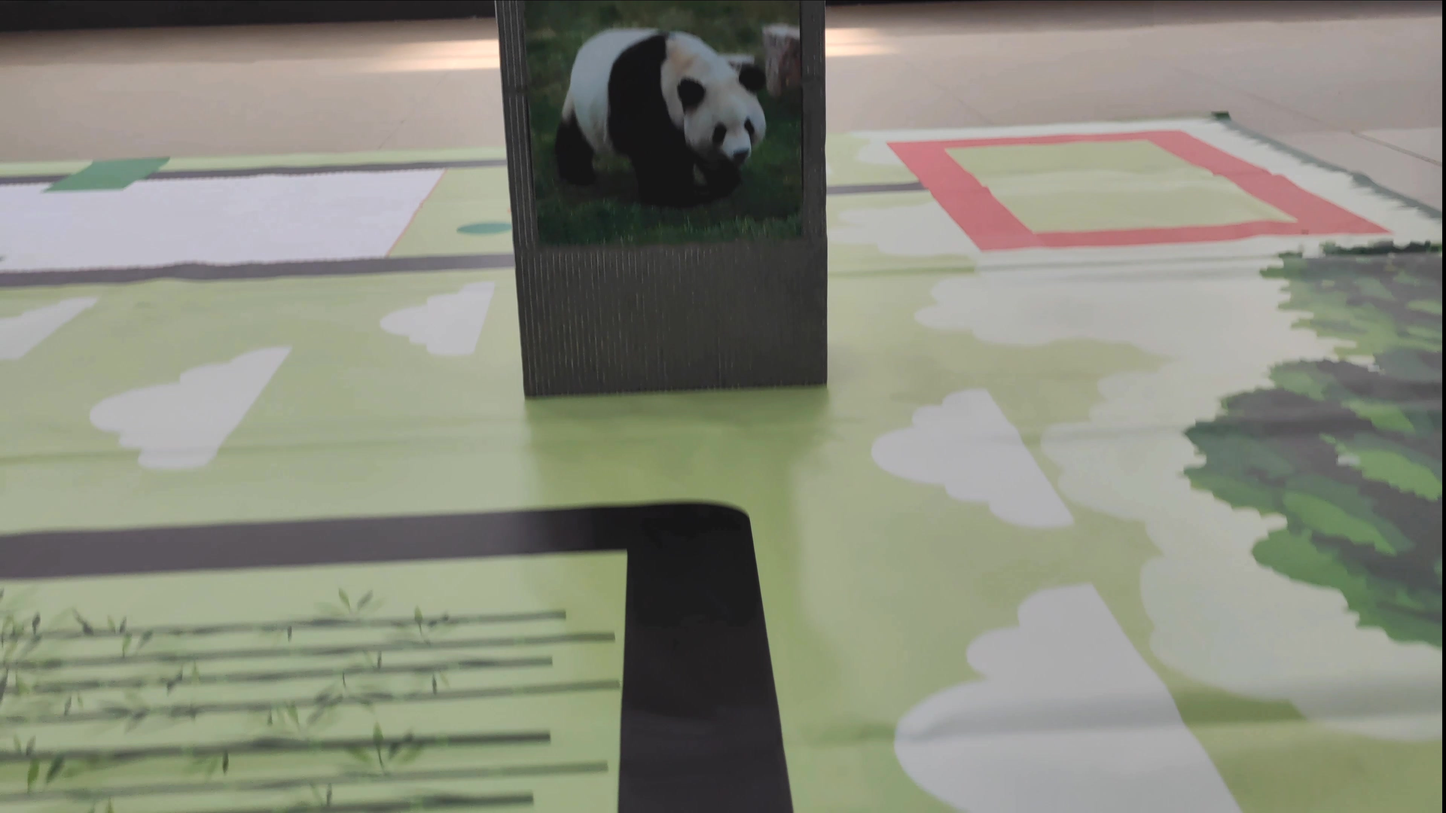panda: (539, 13, 790, 206)
